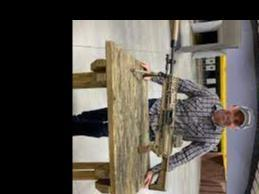larga: (138, 19, 183, 192)
